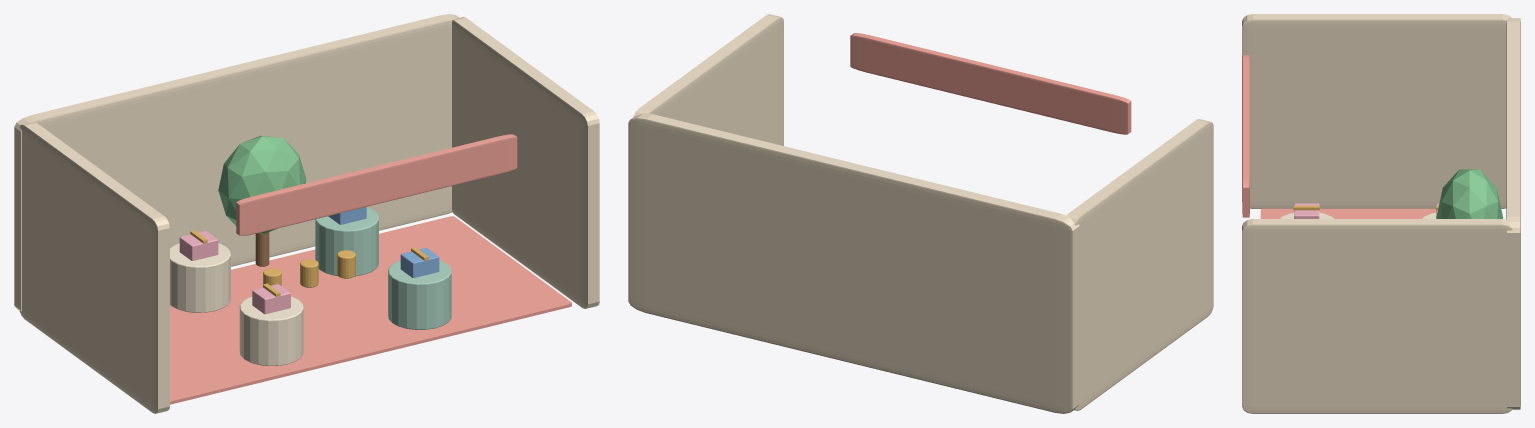
Rendered from seasonal_pop_up.glb.
The picture shows the model from 3 angles, left to right: view 1: azimuth 30°, elevation 25°; view 2: azimuth 150°, elevation 25°; view 3: azimuth 270°, elevation 25°; orthographic projection. The views are drawn at different scales.
Visible parts, largest first — view 1: seasonal_pop_up_back, seasonal_pop_up_left, seasonal_pop_up_right, seasonal_pop_up_floor, seasonal_pop_up_sign, Display_Tree_Canopy, Season_Pedestal_1, Season_Pedestal_2, Season_Pedestal_3, Season_Pedestal_4, Gift_Box_2, Gift_Box_3 (+1 smaller); view 2: seasonal_pop_up_back, seasonal_pop_up_left, seasonal_pop_up_sign, seasonal_pop_up_right; view 3: seasonal_pop_up_right, seasonal_pop_up_left, seasonal_pop_up_back, Display_Tree_Canopy, seasonal_pop_up_floor, seasonal_pop_up_sign, Gift_Box_1.
Part boxes in pixels (box(x1,y1,x2,y2)): seasonal_pop_up_back: box(14, 14, 458, 311); seasonal_pop_up_left: box(19, 122, 169, 413); seasonal_pop_up_right: box(452, 17, 599, 308); seasonal_pop_up_floor: box(170, 216, 571, 404); seasonal_pop_up_sign: box(236, 134, 517, 235); Display_Tree_Canopy: box(218, 135, 306, 233); Season_Pedestal_1: box(239, 296, 303, 366); Season_Pedestal_2: box(388, 260, 451, 329); Season_Pedestal_3: box(170, 243, 230, 312); Season_Pedestal_4: box(315, 207, 378, 276); Gift_Box_2: box(400, 248, 439, 278); Gift_Box_3: box(179, 230, 218, 260); seasonal_pop_up_back: box(628, 113, 1079, 413); seasonal_pop_up_left: box(1067, 119, 1213, 410); seasonal_pop_up_sign: box(850, 33, 1131, 134); seasonal_pop_up_right: box(633, 14, 783, 145); seasonal_pop_up_right: box(1242, 219, 1512, 413); seasonal_pop_up_left: box(1242, 14, 1511, 208); seasonal_pop_up_back: box(1506, 18, 1520, 409); Display_Tree_Canopy: box(1436, 169, 1503, 218); seasonal_pop_up_floor: box(1260, 208, 1436, 218); seasonal_pop_up_sign: box(1242, 55, 1249, 217); Gift_Box_1: box(1294, 203, 1319, 218).
Size of the model in its own units: 12 by 5 by 6.67.
